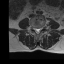CCS_normal: (36, 26, 39, 35)
LFS_normal: (41, 24, 43, 31)
LLS_normal: (39, 25, 41, 33)
RFS_normal: (32, 24, 34, 31)
RLS_normal: (34, 25, 36, 34)
